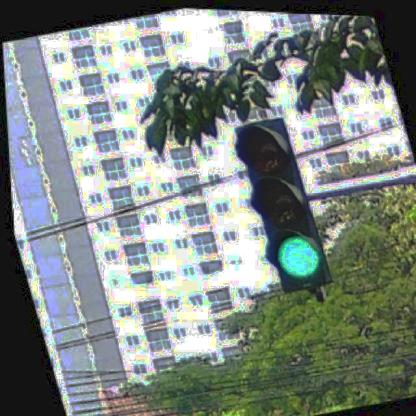Traffic Light -Green-: (230, 111, 329, 294)
